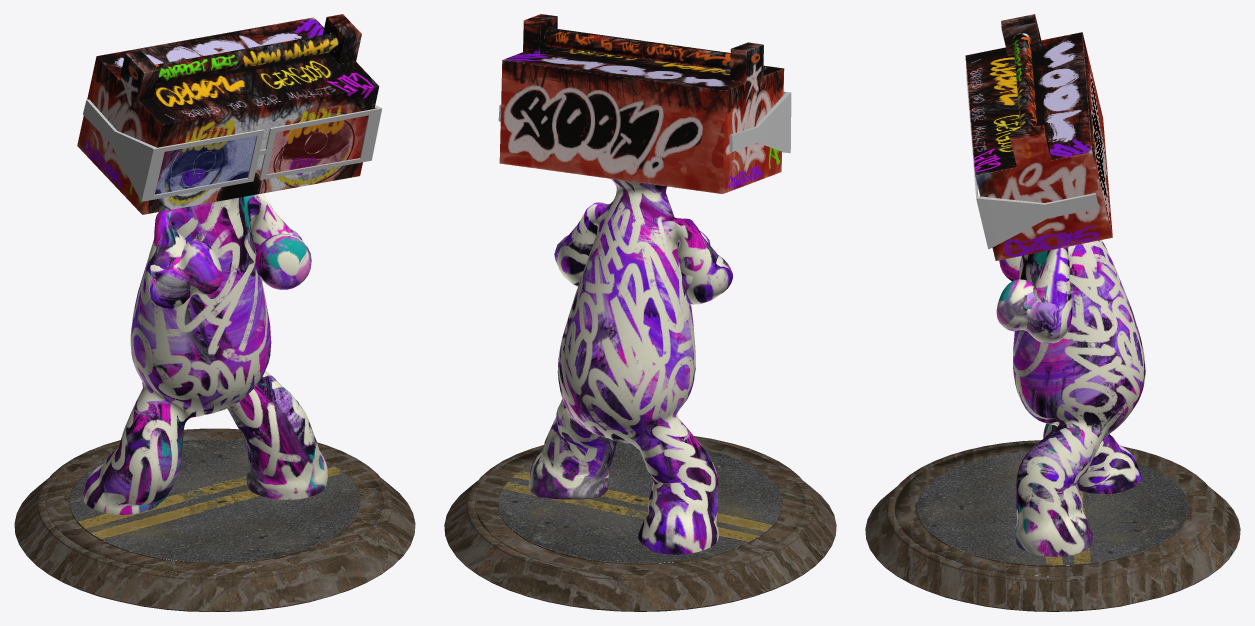
3 views of the same model, side by side, from view 1: azimuth 30°, elevation 25°; view 2: azimuth 150°, elevation 25°; view 3: azimuth 270°, elevation 25° (orthographic). The views are drawn at different scales.
Parts seen in each view (by area): view 1: BBody; view 2: BBody; view 3: BBody.
Boxes of the visible parts, x1=… form: BBody: x1=14, y1=14, x2=415, y2=611; BBody: x1=444, y1=14, x2=836, y2=611; BBody: x1=865, y1=14, x2=1240, y2=611.
Size of the model in its own units: 1.45 by 2.02 by 1.45.
7 materials, 4 textured.
